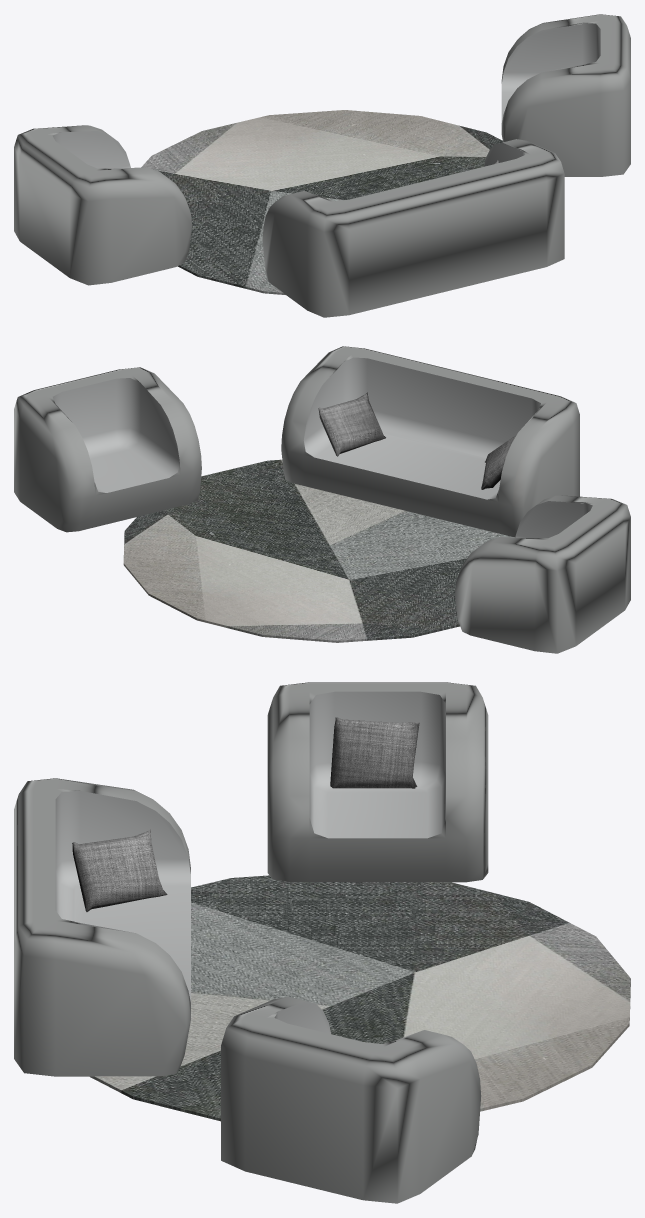
The model's file is M_shafa01.FBX.
3 renders of one model, top to bottom at view 1: azimuth 30°, elevation 25°; view 2: azimuth 150°, elevation 25°; view 3: azimuth 270°, elevation 25°, orthographic. The views are drawn at different scales.
Parts seen in each view (by area): view 1: M_shafa01_01, M_shafa01_03; view 2: M_shafa01_01, M_shafa01_03, M_shafa01_02; view 3: M_shafa01_01, M_shafa01_03, M_shafa01_02.
Boxes of the visible parts, <box> form: M_shafa01_01: <box>14,14,630,317</box>; M_shafa01_03: <box>141,110,502,294</box>; M_shafa01_01: <box>14,346,630,653</box>; M_shafa01_03: <box>123,459,514,642</box>; M_shafa01_02: <box>318,392,516,489</box>; M_shafa01_01: <box>14,682,488,1203</box>; M_shafa01_03: <box>90,875,630,1121</box>; M_shafa01_02: <box>72,717,419,911</box>.
Size of the model in its own units: 8.74 by 1.46 by 5.82.
